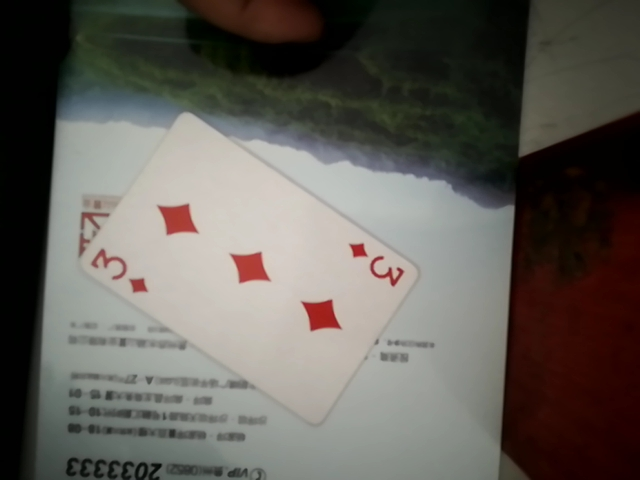fk 3: (60, 111, 430, 413)
